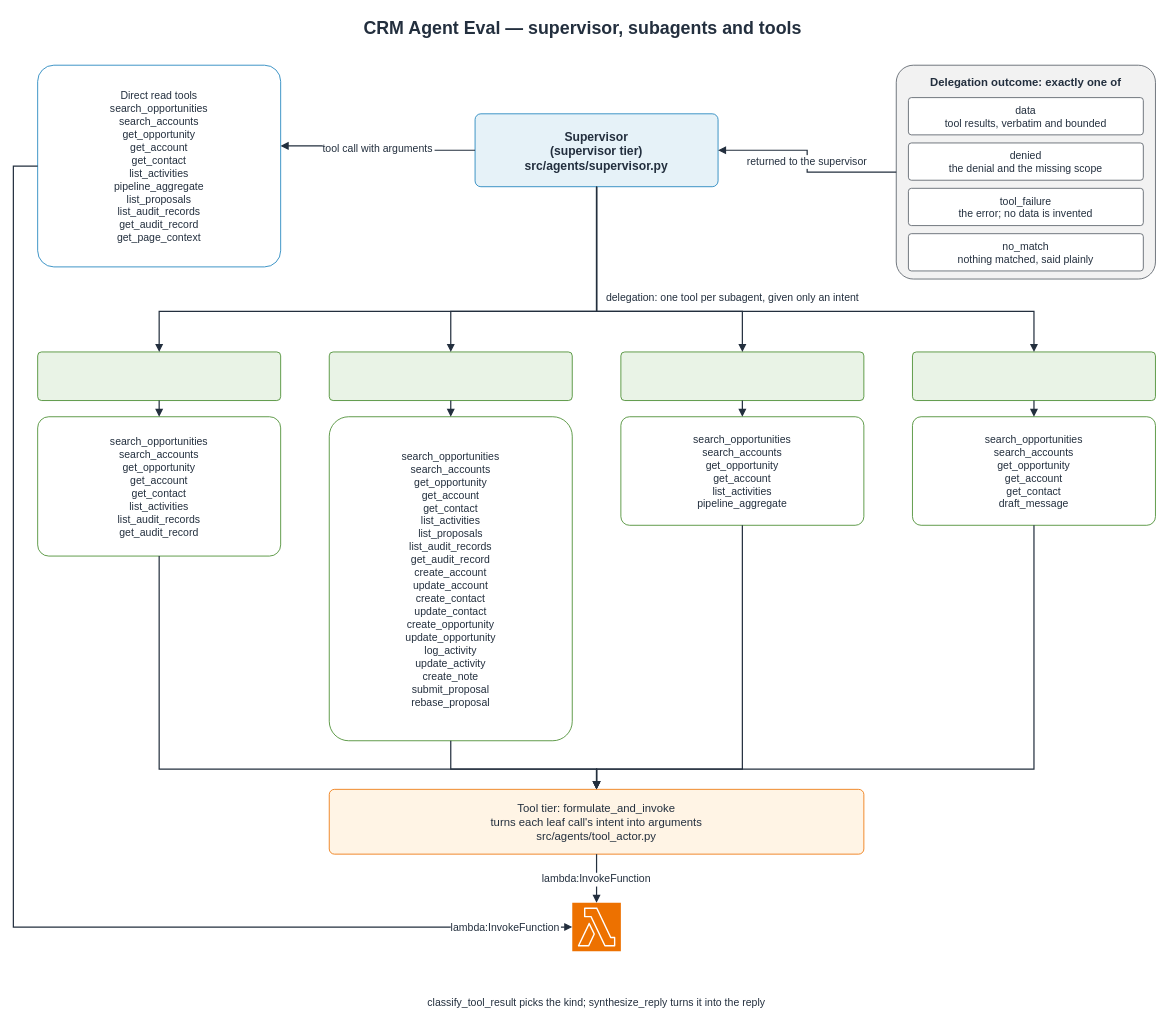
This 1169x1025 diagram has some shape labels left out. Each missing label, with the centre of its shape:
"analytics subagent (subagent tier)" belongs at [742,376].
"AWS Lambda – CRM action handlers (agent identity channel)" belongs at [596,926].
"composer subagent (subagent tier)" belongs at [1033,376].
"mutation subagent (subagent tier)" belongs at [450,376].
"research subagent (subagent tier)" belongs at [159,376].
